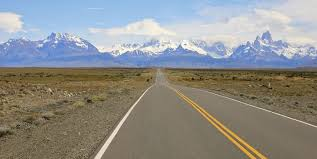strada: (150, 66, 317, 153)
